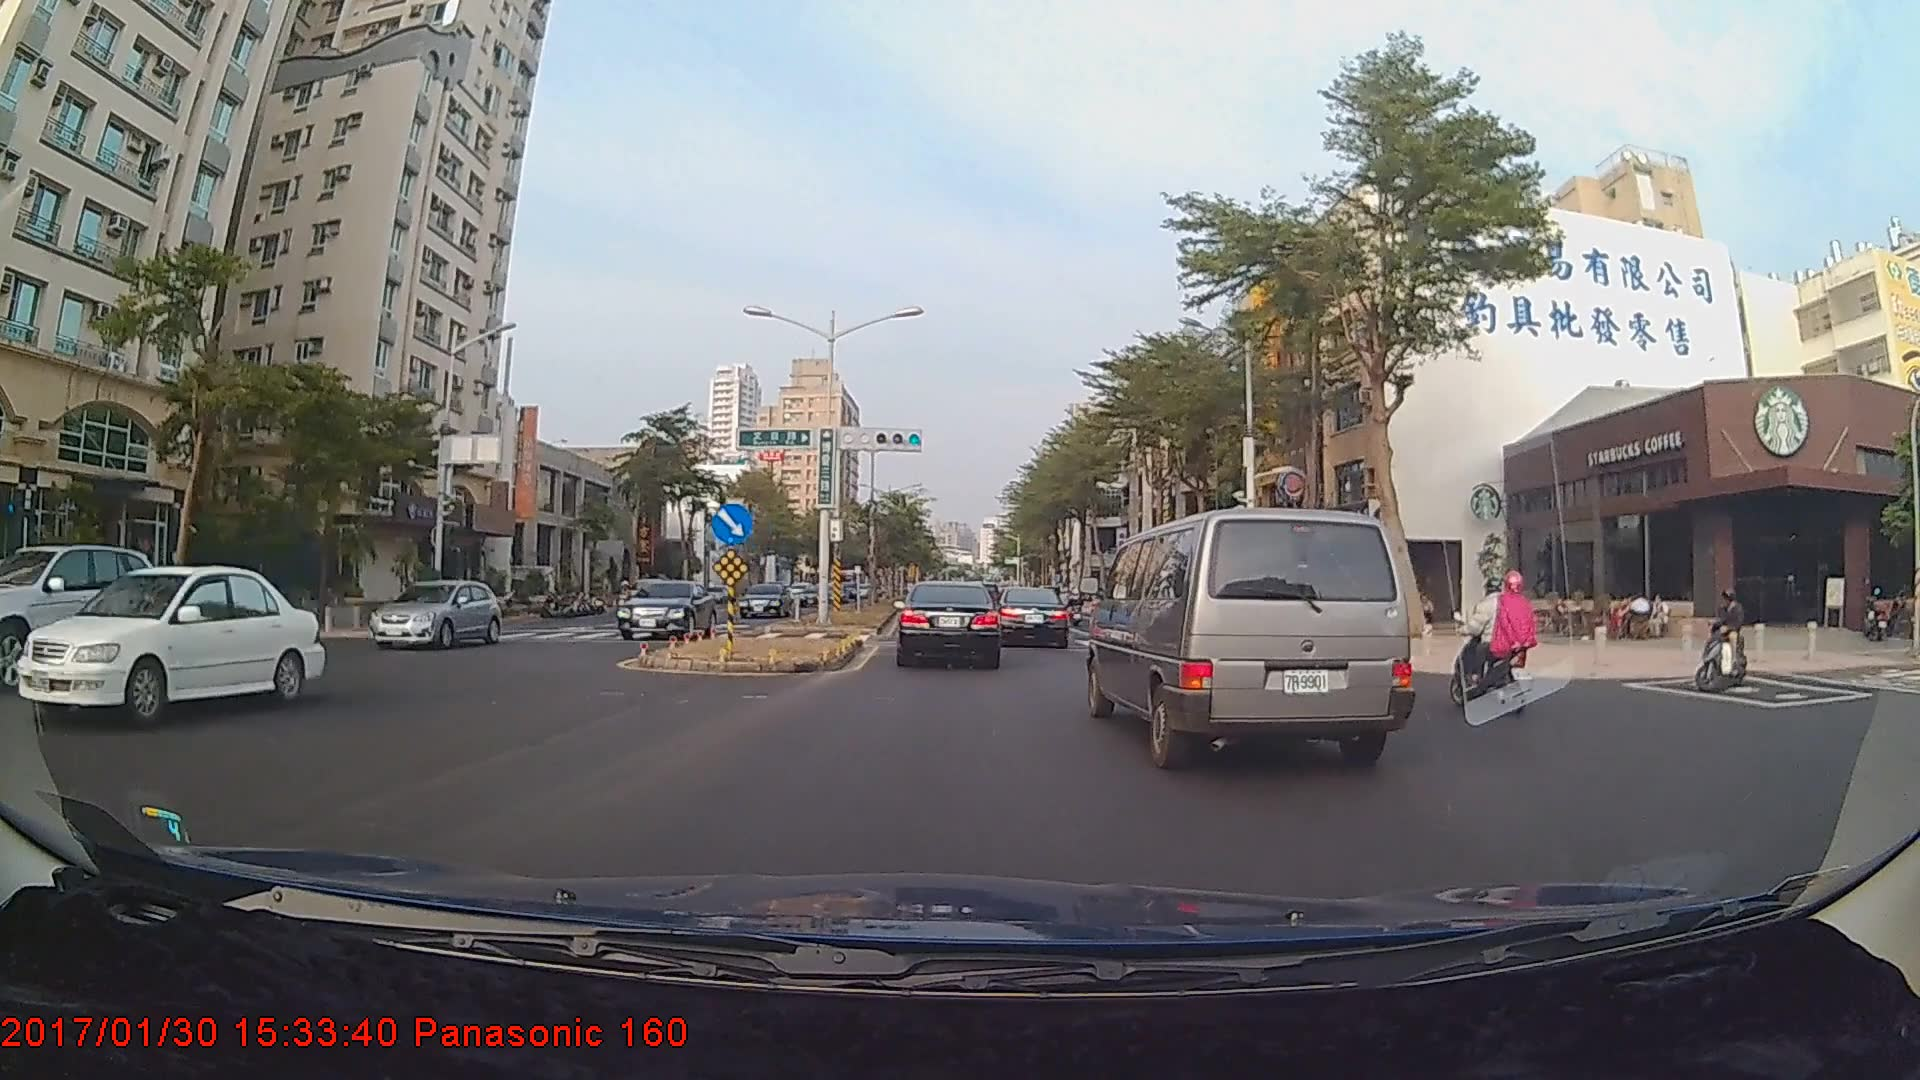rider: (1458, 563, 1557, 715), (1691, 585, 1765, 696)
vehicle: (1093, 499, 1410, 770), (12, 567, 324, 725), (0, 540, 165, 676), (367, 579, 499, 651), (894, 581, 1002, 668), (611, 578, 717, 642), (998, 586, 1070, 646), (736, 580, 794, 619)
